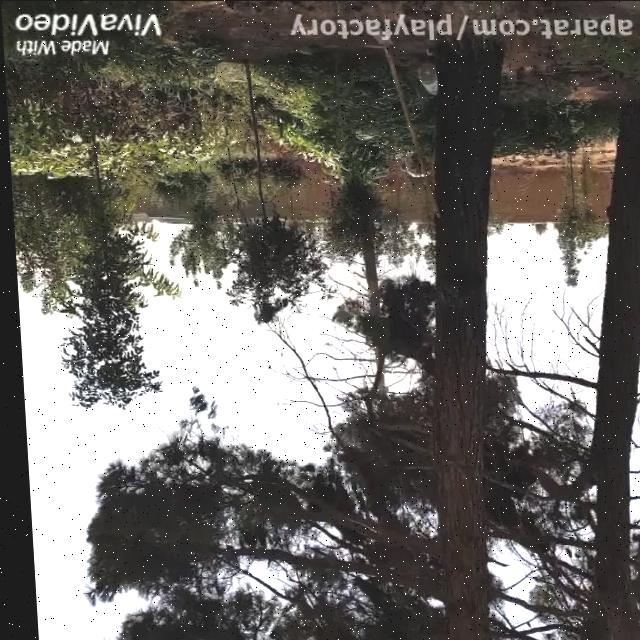drone: (317, 338, 331, 350)
